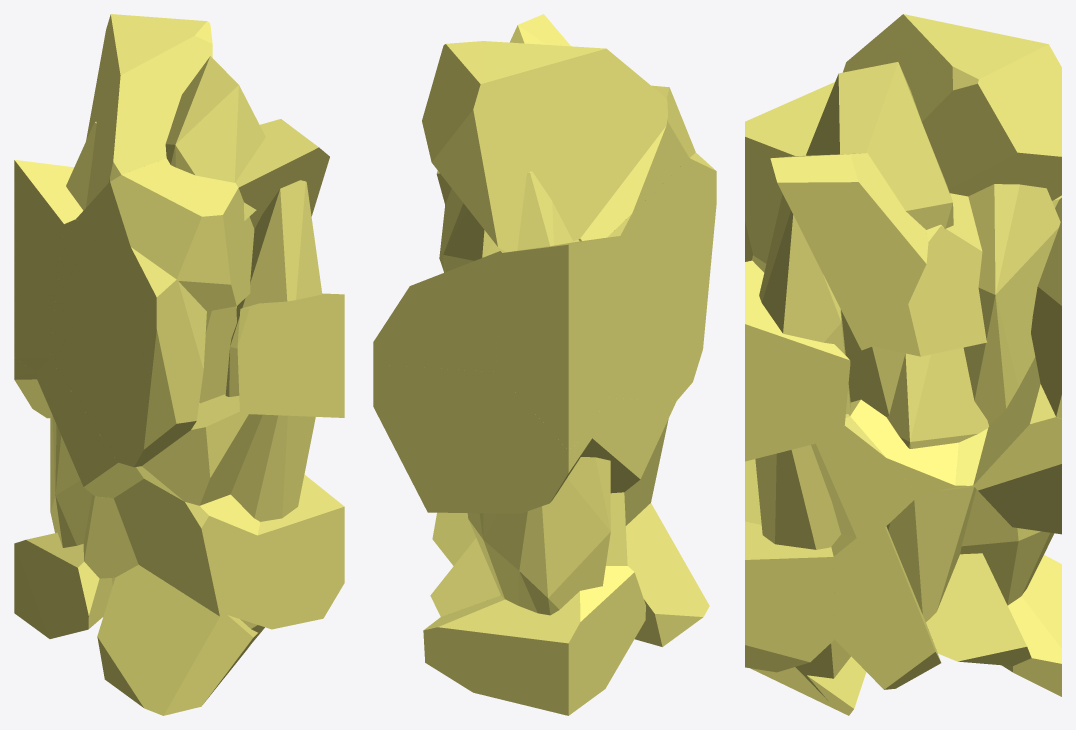
The model's file is BreakableRock.dae.
The picture shows the model from 3 angles, left to right: view 1: azimuth 30°, elevation 25°; view 2: azimuth 150°, elevation 25°; view 3: azimuth 270°, elevation 25°; orthographic projection. The views are drawn at different scales.
Visible parts, largest first — view 1: imagetostl_mesh0_cell.025, imagetostl_mesh0_cell.041, imagetostl_mesh0_cell.016, imagetostl_mesh0_cell.003, imagetostl_mesh0_cell.044, imagetostl_mesh0_cell.013, imagetostl_mesh0_cell.046, imagetostl_mesh0_cell.022, imagetostl_mesh0_cell.047, imagetostl_mesh0_cell.030, imagetostl_mesh0_cell.006, imagetostl_mesh0_cell.039 (+7 smaller); view 2: imagetostl_mesh0_cell.016, imagetostl_mesh0_cell.033, imagetostl_mesh0_cell.025, imagetostl_mesh0_cell.039, imagetostl_mesh0_cell.047, imagetostl_mesh0_cell.038, imagetostl_mesh0_cell.003, imagetostl_mesh0_cell.009, imagetostl_mesh0_cell.041, imagetostl_mesh0_cell.015, imagetostl_mesh0_cell.011, imagetostl_mesh0_cell.044 (+3 smaller); view 3: imagetostl_mesh0_cell.016, imagetostl_mesh0_cell.044, imagetostl_mesh0_cell.037, imagetostl_mesh0_cell.043, imagetostl_mesh0_cell.006, imagetostl_mesh0_cell.030, imagetostl_mesh0_cell.013, imagetostl_mesh0_cell.022, imagetostl_mesh0_cell.014, imagetostl_mesh0_cell.033, imagetostl_mesh0_cell.011, imagetostl_mesh0_cell.041 (+10 smaller).
Part boxes in pixels (x1,y1,x2,y2): imagetostl_mesh0_cell.025: (49, 219, 206, 467); imagetostl_mesh0_cell.041: (76, 122, 254, 311); imagetostl_mesh0_cell.016: (50, 14, 212, 547); imagetostl_mesh0_cell.003: (97, 564, 257, 715); imagetostl_mesh0_cell.044: (225, 180, 322, 521); imagetostl_mesh0_cell.013: (237, 293, 344, 417); imagetostl_mesh0_cell.046: (114, 479, 260, 616); imagetostl_mesh0_cell.022: (228, 474, 344, 629); imagetostl_mesh0_cell.047: (14, 160, 83, 371); imagetostl_mesh0_cell.030: (136, 189, 279, 505); imagetostl_mesh0_cell.006: (171, 85, 265, 403); imagetostl_mesh0_cell.039: (14, 532, 112, 638); imagetostl_mesh0_cell.016: (422, 41, 667, 598); imagetostl_mesh0_cell.033: (373, 365, 592, 513); imagetostl_mesh0_cell.025: (605, 152, 716, 400); imagetostl_mesh0_cell.039: (423, 566, 645, 715); imagetostl_mesh0_cell.047: (496, 236, 620, 450); imagetostl_mesh0_cell.038: (373, 251, 502, 371); imagetostl_mesh0_cell.003: (626, 503, 709, 646); imagetostl_mesh0_cell.009: (499, 505, 579, 615); imagetostl_mesh0_cell.041: (528, 85, 695, 244); imagetostl_mesh0_cell.015: (581, 397, 676, 493); imagetostl_mesh0_cell.011: (430, 492, 627, 616); imagetostl_mesh0_cell.044: (432, 512, 476, 565); imagetostl_mesh0_cell.016: (843, 14, 1061, 605); imagetostl_mesh0_cell.044: (755, 194, 941, 689); imagetostl_mesh0_cell.037: (770, 153, 928, 350); imagetostl_mesh0_cell.043: (873, 193, 1049, 604); imagetostl_mesh0_cell.006: (806, 74, 973, 621); imagetostl_mesh0_cell.030: (783, 215, 918, 677); imagetostl_mesh0_cell.013: (745, 260, 850, 461); imagetostl_mesh0_cell.022: (745, 521, 834, 672); imagetostl_mesh0_cell.014: (838, 62, 952, 379); imagetostl_mesh0_cell.033: (973, 357, 1061, 534); imagetostl_mesh0_cell.011: (926, 252, 1031, 665); imagetostl_mesh0_cell.041: (745, 82, 995, 294).
Size of the model in its own units: 43.99 by 57.78 by 130.
